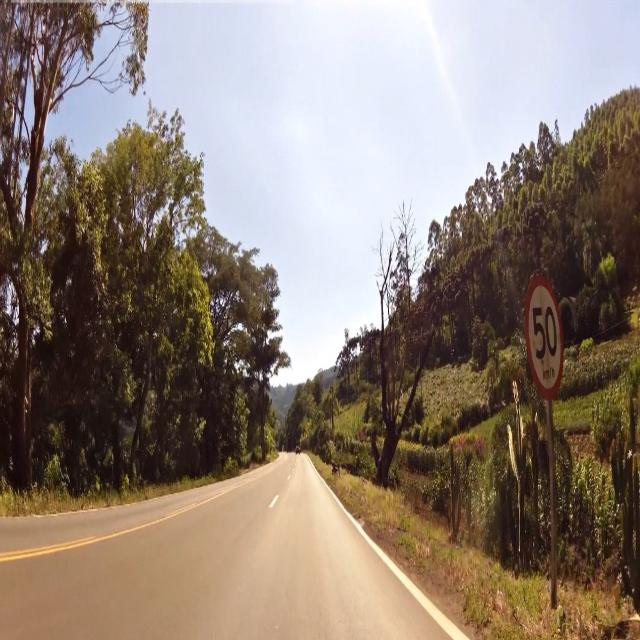R-19: (521, 267, 573, 404)
